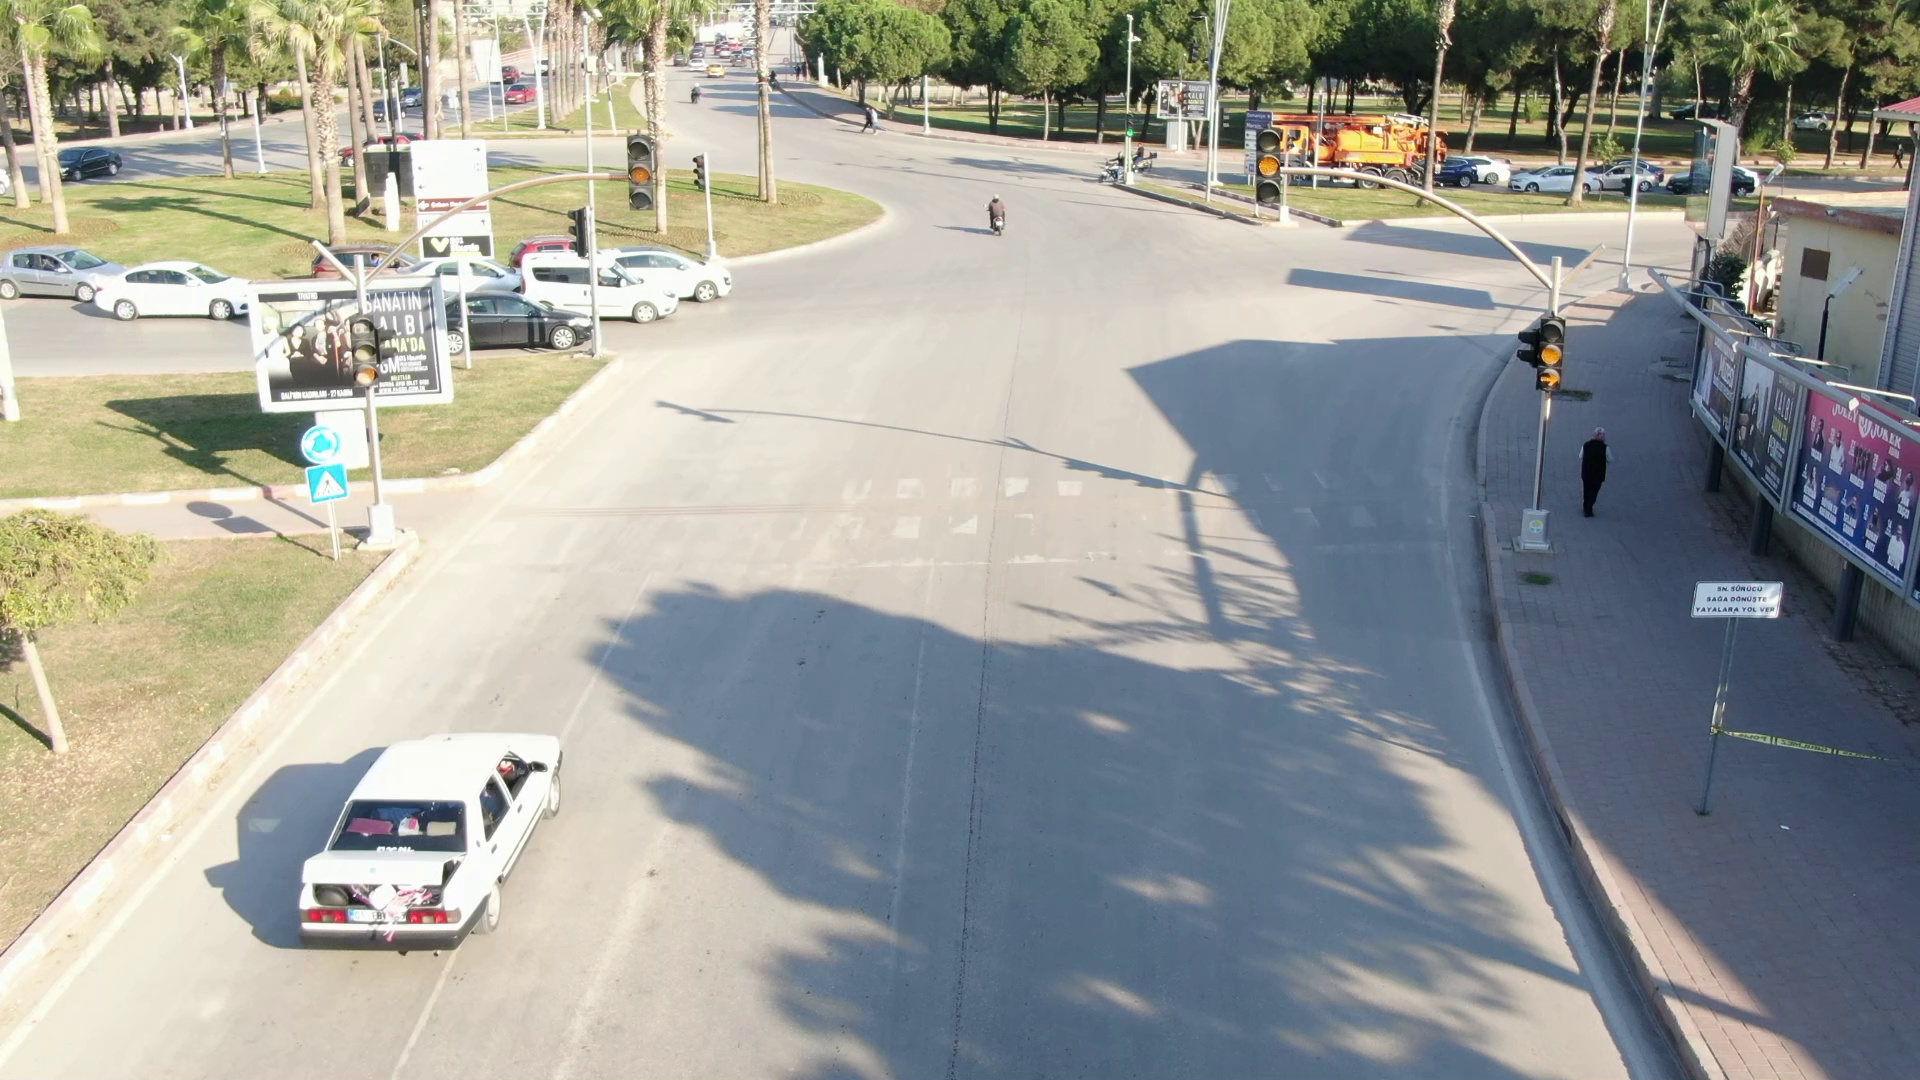car: (282, 706, 600, 951), (514, 239, 686, 317), (80, 259, 261, 321)
person: (1572, 410, 1625, 519), (980, 186, 1017, 235)
